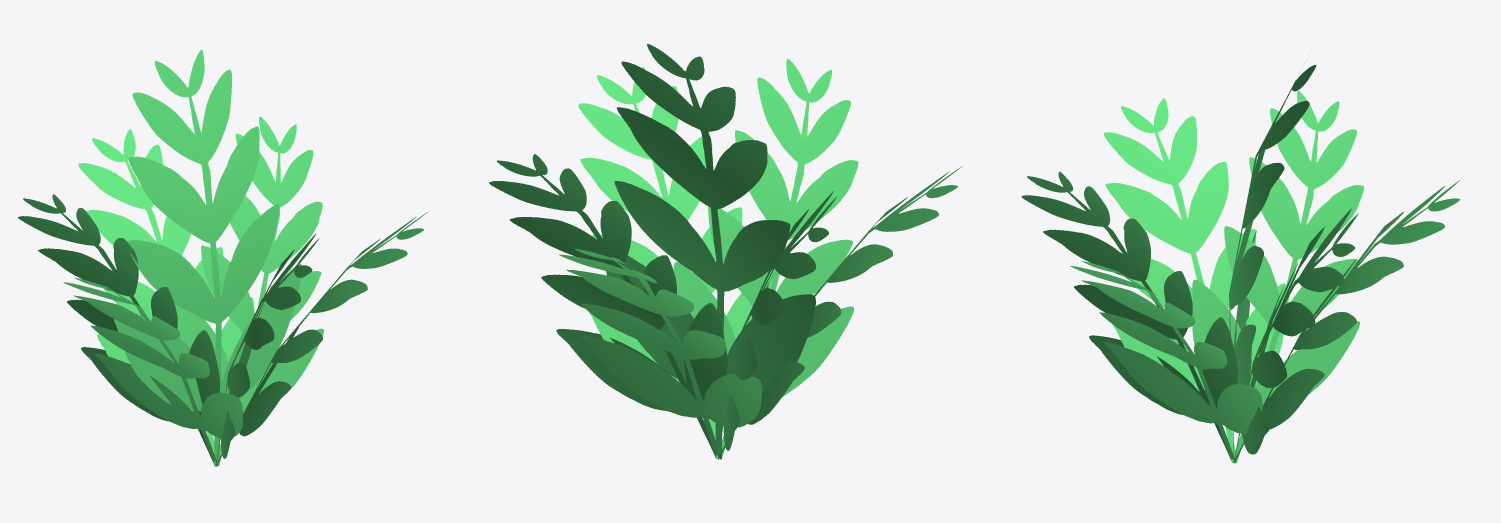
Rendered from Bush1.fbx.
The picture shows the model from 3 angles, left to right: view 1: azimuth 30°, elevation 25°; view 2: azimuth 150°, elevation 25°; view 3: azimuth 270°, elevation 25°; orthographic projection. The views are drawn at different scales.
Visible parts, largest first — view 1: Bush 1; view 2: Bush 1; view 3: Bush 1.
Boxes of the visible parts, box(x1,y1,x2,y2) form: Bush 1: box(18, 49, 427, 466); Bush 1: box(489, 44, 962, 459); Bush 1: box(1021, 63, 1460, 463).
Size of the model in its own units: 78.8 by 96.63 by 83.04.
